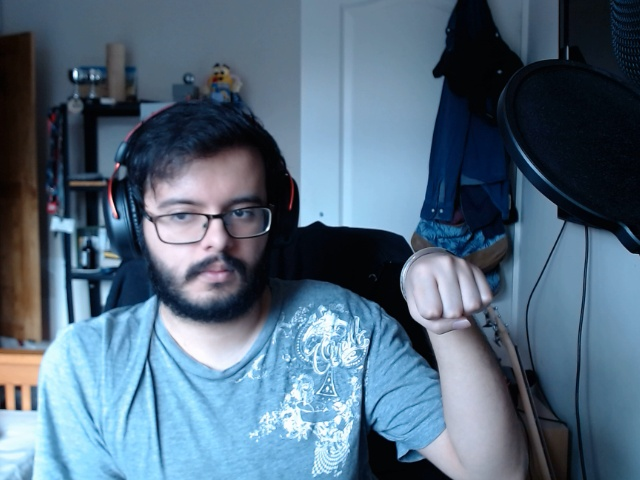Yes: (405, 247, 497, 337)
